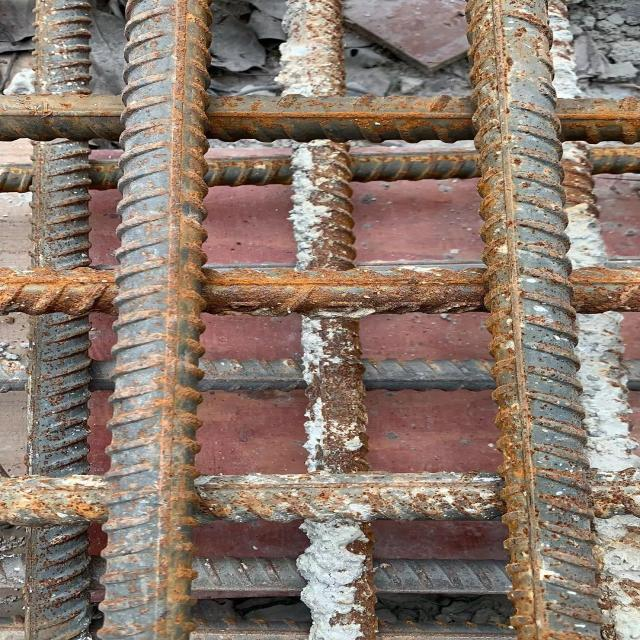ribbed bar: (461, 0, 611, 639), (99, 0, 215, 639), (279, 0, 382, 639), (19, 0, 93, 639), (0, 261, 639, 321), (0, 466, 639, 525), (0, 93, 639, 144), (0, 145, 639, 194), (0, 357, 639, 395), (0, 552, 510, 599)
